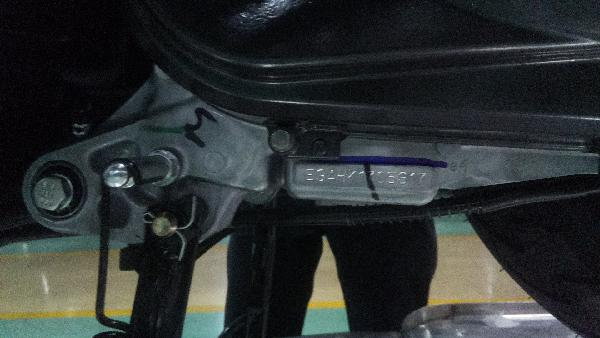box: (304, 167, 428, 189)
